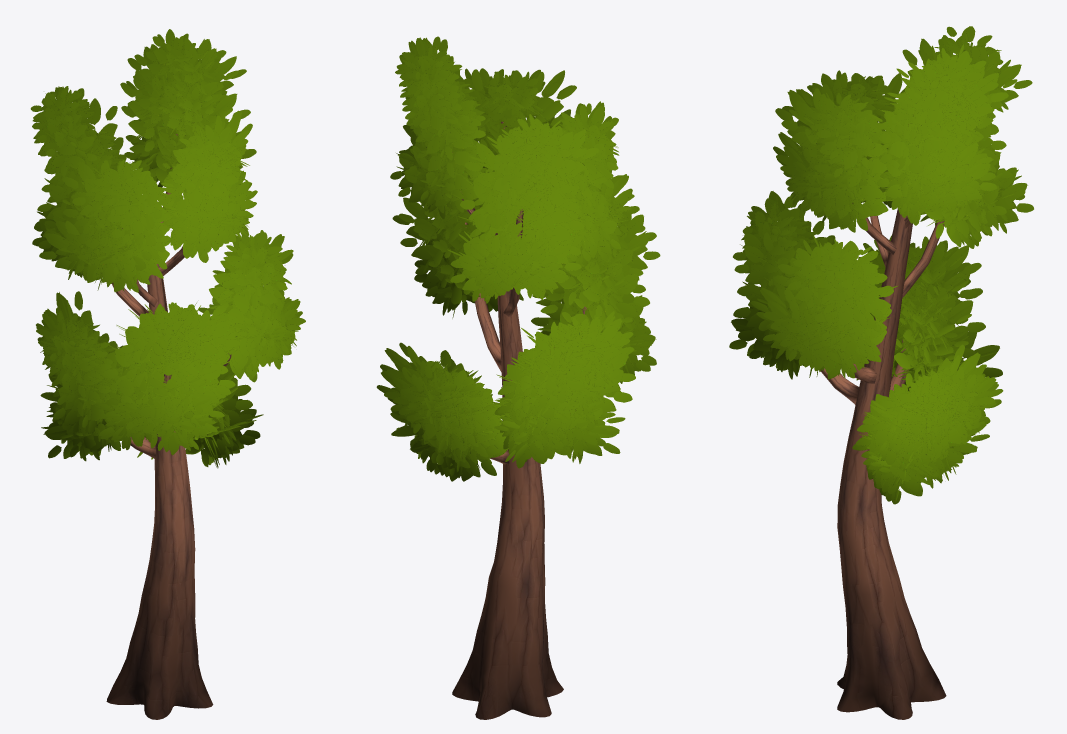
File: CommonTree_3.gltf
3 views of the same model, side by side, from view 1: azimuth 30°, elevation 25°; view 2: azimuth 150°, elevation 25°; view 3: azimuth 270°, elevation 25° (orthographic). The views are drawn at different scales.
Visible parts, largest first — view 1: CommonTree_3; view 2: CommonTree_3; view 3: CommonTree_3.
Boxes of the visible parts, <box> form: CommonTree_3: <box>30,29,305,719</box>; CommonTree_3: <box>376,36,660,719</box>; CommonTree_3: <box>729,26,1033,719</box>.
Bounding box in the file's own units: 4.06 × 9.43 × 4.24.
2 materials, 2 textured.
